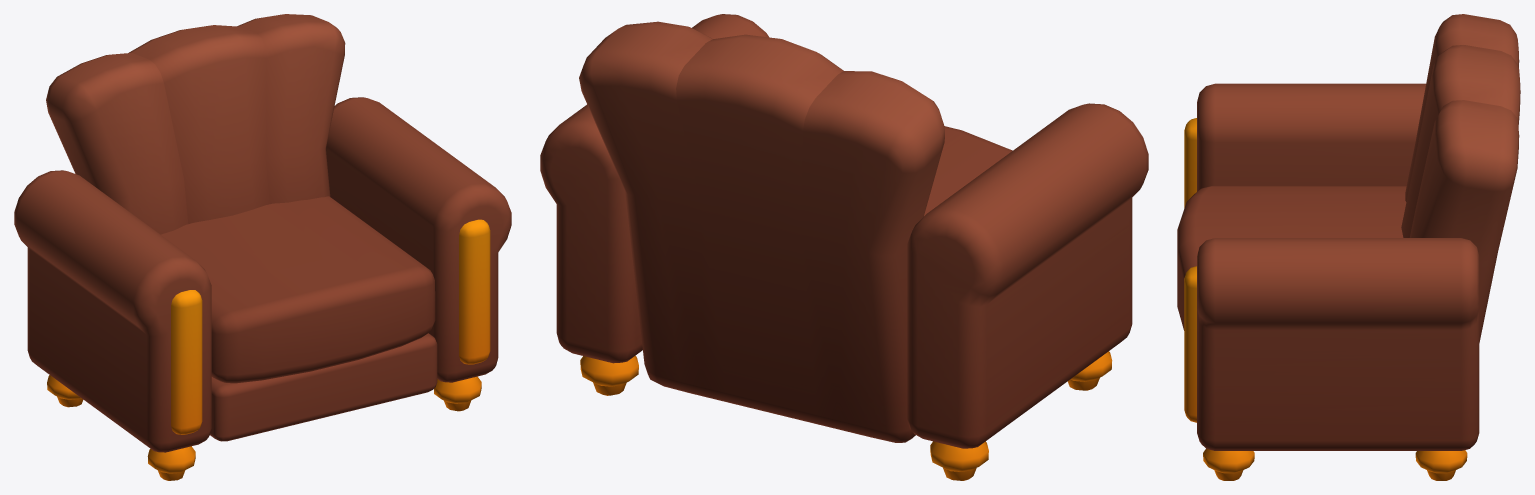
Rendered from Armchair_001.fbx.
3 renders of one model, left to right at view 1: azimuth 30°, elevation 25°; view 2: azimuth 150°, elevation 25°; view 3: azimuth 270°, elevation 25°, orthographic. The views are drawn at different scales.
Parts seen in each view (by area): view 1: Armchair_001; view 2: Armchair_001; view 3: Armchair_001.
Boxes of the visible parts, <box> form: Armchair_001: <box>14,14,511,480</box>; Armchair_001: <box>540,14,1148,480</box>; Armchair_001: <box>1177,14,1520,480</box>.
Size of the model in its own units: 1.27 by 1.05 by 0.9481.
